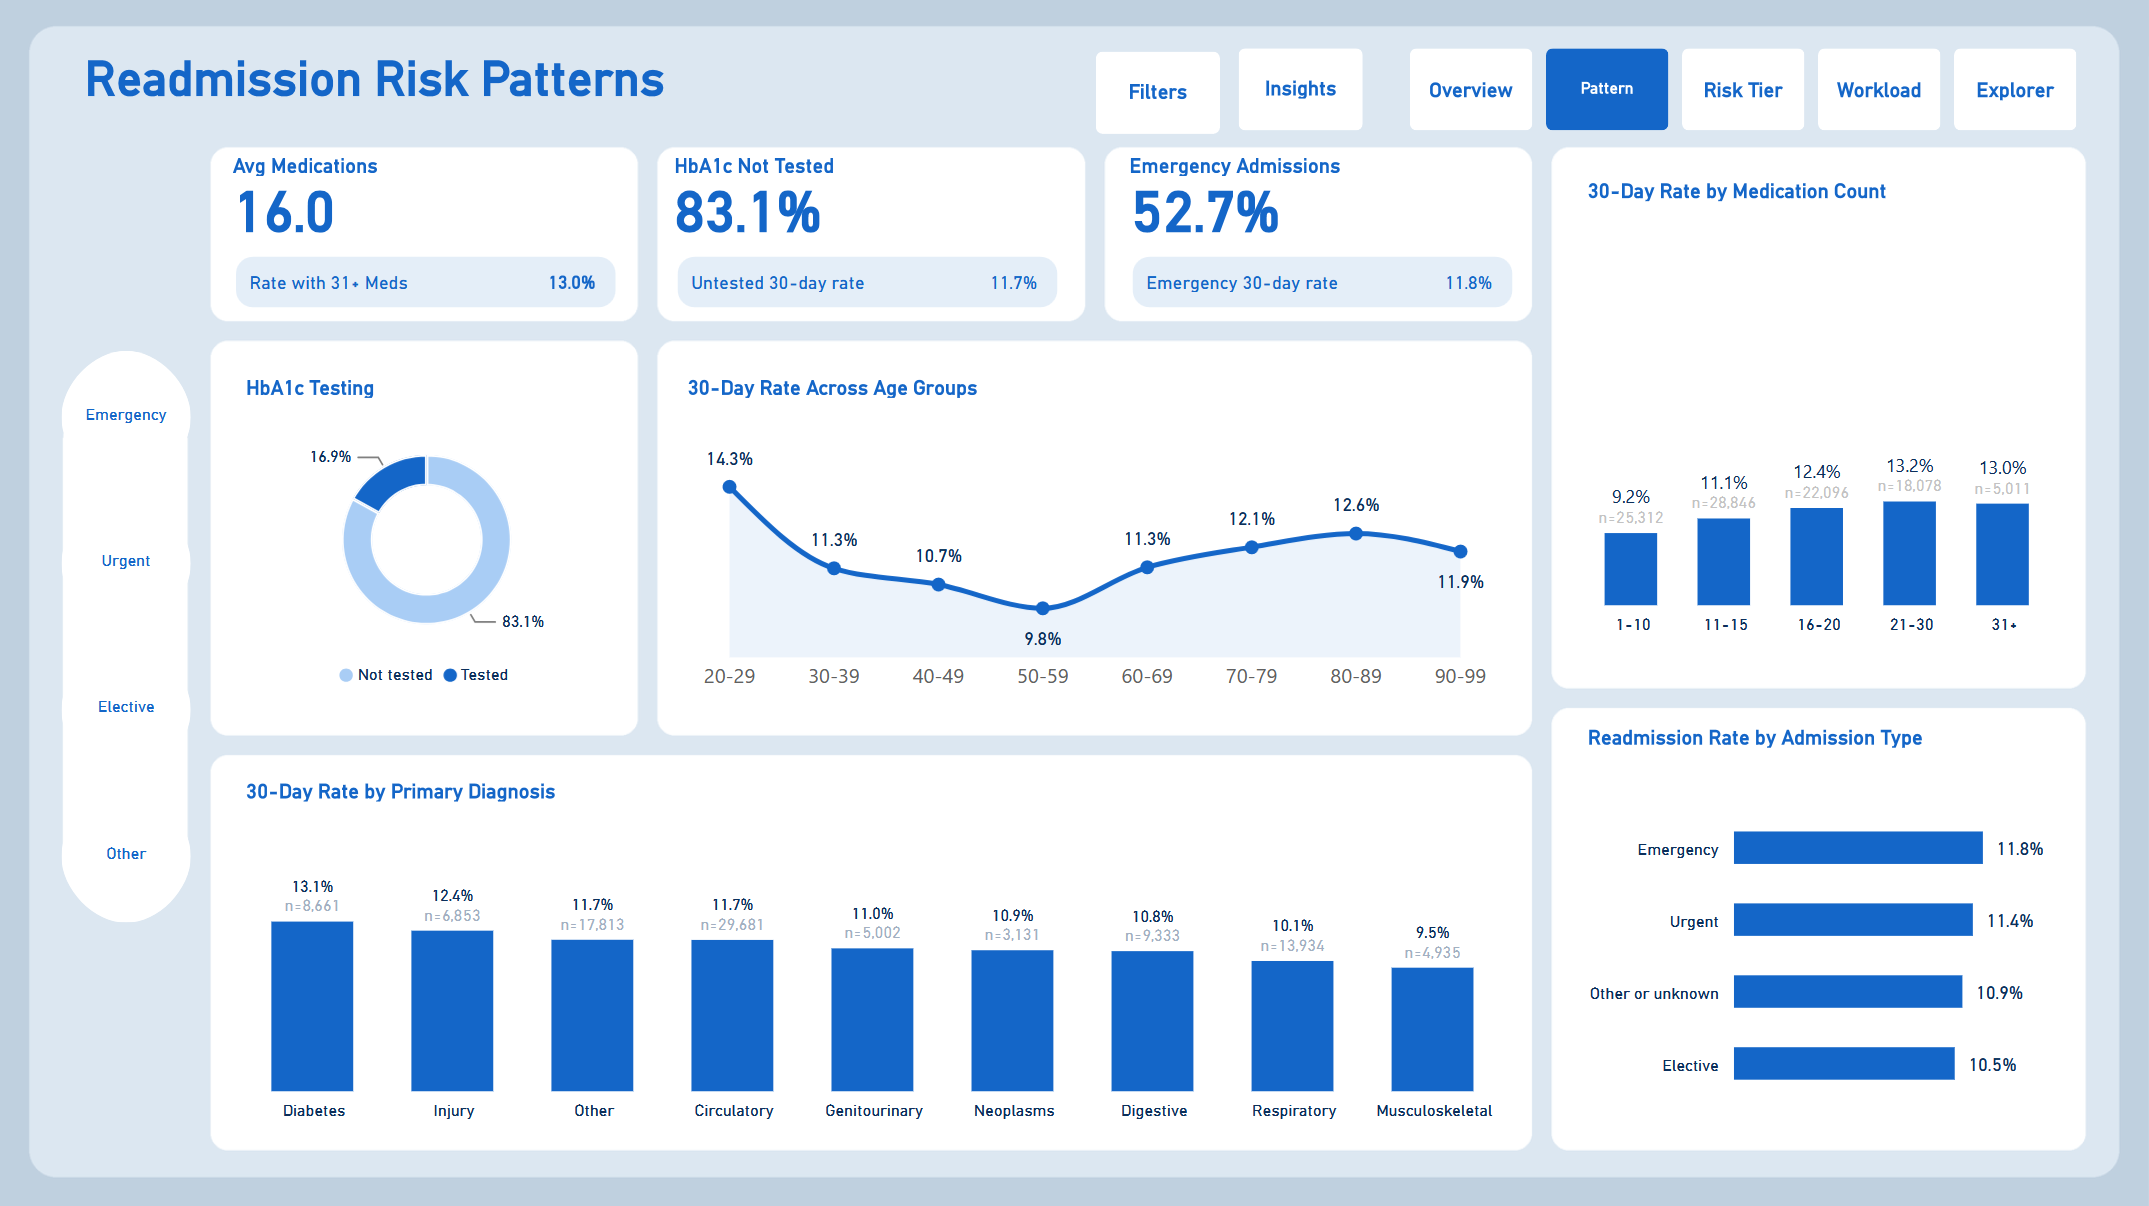

This screenshot's page, from the dashboard's own definition file:
{"tool":"powerbi","page":{"name":"Pattern","canvas":[1280,720],"ordinal":1},"visuals":[{"type":"textbox","box":[50.5,29.7,529.2,55],"z":0},{"type":"cardVisual","title":"Total Encounters","fields":{"Data":["_Measures.Avg Medications"]},"box":[131,93,246,100],"z":1000},{"type":"cardVisual","title":"Total Encounters","fields":{"Data":["_Measures.HbA1c Not Tested Share"]},"box":[394.3,93.5,246,100],"z":2000},{"type":"cardVisual","title":"Total Encounters","fields":{"Data":["_Measures.Emergency Share"]},"box":[664.5,93.5,246,100],"z":3000},{"type":"donutChart","title":"HbA1c Testing","fields":{"Category":["Encounters.HbA1c Tested"],"Y":["_Measures.Encounters (Included)"]},"box":[130.8,209.6,246.7,221.5],"z":4000},{"type":"clusteredColumnChart","title":"30-Day Rate by Primary Diagnosis","fields":{"Category":["Diagnosis Group.diag_group"],"Y":["_Measures.Readmission Rate"]},"box":[130.8,450.4,780.4,234.9],"z":5000},{"type":"clusteredColumnChart","title":"30-Day Rate by Medication Count","fields":{"Category":["Encounters.med_band"],"Y":["_Measures.Readmission Rate"]},"box":[929.7,93.5,307.6,302.5],"z":6000},{"type":"clusteredBarChart","title":"Readmission Rate by Admission Type","fields":{"Category":["Admission Type.Admission Group"],"Y":["_Measures.Readmission Rate"]},"box":[929.7,418.1,307.6,266.8],"z":7000},{"type":"lineChart","title":"30-Day Rate Across Age Groups","fields":{"Category":["Encounters.age_band"],"Y":["_Measures.Readmission Rate"]},"box":[393.9,209.6,517.3,221.5],"z":8000},{"type":"advancedSlicerVisual","fields":{"Values":["Admission Type.Admission Strip"]},"box":[39,209,74,343],"z":9000},{"type":"pageNavigator","box":[839.6,28.9,397.7,49.3],"z":10000},{"type":"actionButton","title":"Insight","box":[737.6,28.9,74.8,49.3],"z":11000},{"type":"actionButton","title":"Filter","box":[652.6,30.6,74.8,49.3],"z":13000}]}

Visuals, with their boxes in screenshot pixels (x1, y1, x2, y2), scaled from the page's 1280x720 canvas onto the 2149x1206 screenshot:
textbox: (85,50,973,142)
"Total Encounters" cardVisual: (220,156,633,323)
"Total Encounters" cardVisual: (662,157,1075,324)
"Total Encounters" cardVisual: (1116,157,1529,324)
"HbA1c Testing" donutChart: (220,351,634,722)
"30-Day Rate by Primary Diagnosis" clusteredColumnChart: (220,754,1530,1148)
"30-Day Rate by Medication Count" clusteredColumnChart: (1561,157,2077,663)
"Readmission Rate by Admission Type" clusteredBarChart: (1561,700,2077,1147)
"30-Day Rate Across Age Groups" lineChart: (661,351,1530,722)
advancedSlicerVisual - Admission Type.Admission Strip: (65,350,190,925)
pageNavigator: (1410,48,2077,131)
"Insight" actionButton: (1238,48,1364,131)
"Filter" actionButton: (1096,51,1221,134)
